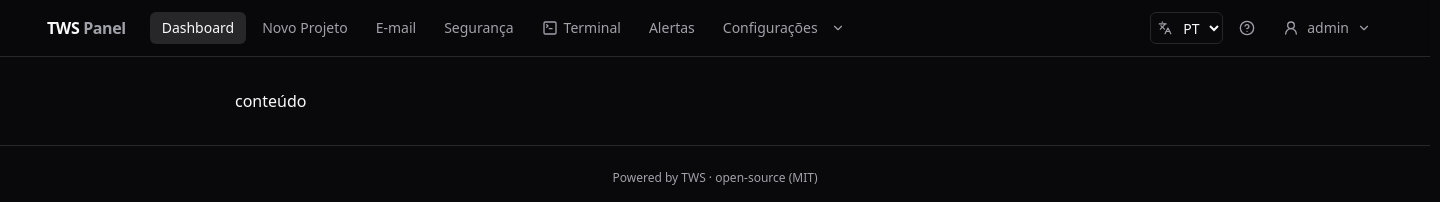
Test: seletor de idioma no cabeçalho › topo: aparece fora do menu do usuário, com rótulo acessível, e troca o idioma
Select "EN" in the dropdown named "Idioma" at [1187, 28], box 1150,12 -> 1223,44
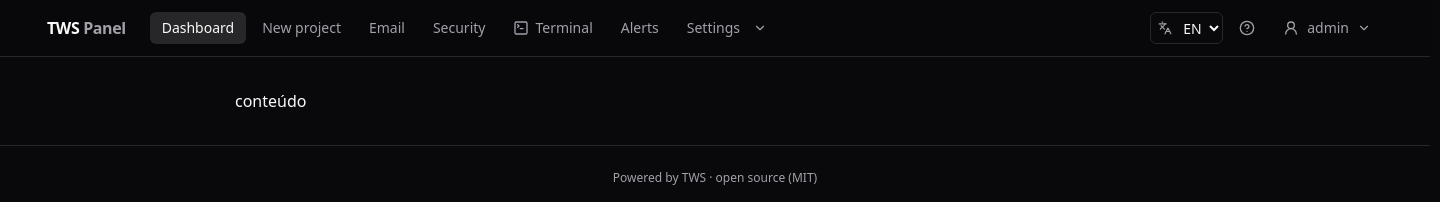
Check: the button named "Settings submenu" is shown, box 746,12 -> 774,44
